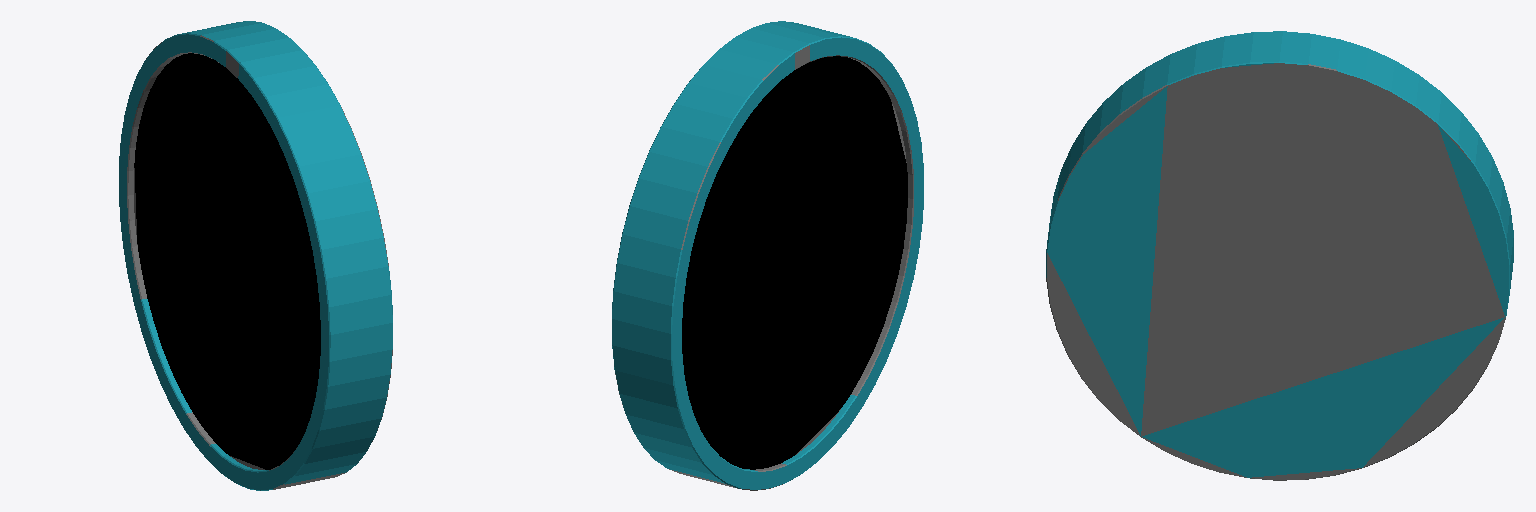
3 views of the same model, side by side, from view 1: azimuth 30°, elevation 25°; view 2: azimuth 150°, elevation 25°; view 3: azimuth 270°, elevation 25° (orthographic).
Parts seen in each view (by area): view 1: wall_clock:IKea_aluminium_clock polySurface2, polySurface1 wall_clock:IKea_aluminium_clock; view 2: wall_clock:IKea_aluminium_clock polySurface2, polySurface1 wall_clock:IKea_aluminium_clock; view 3: polySurface1 wall_clock:IKea_aluminium_clock.
Part boxes in pixels (left/top/right/bottom): wall_clock:IKea_aluminium_clock polySurface2: left=134, top=53, right=320, bottom=469; polySurface1 wall_clock:IKea_aluminium_clock: left=119, top=21, right=392, bottom=490; wall_clock:IKea_aluminium_clock polySurface2: left=682, top=56, right=907, bottom=469; polySurface1 wall_clock:IKea_aluminium_clock: left=612, top=21, right=923, bottom=490; polySurface1 wall_clock:IKea_aluminium_clock: left=1046, top=31, right=1513, bottom=480.
Bounding box in the file's own units: 1.26 × 6.07 × 6.08.
Materials: 3 (1 with a texture image).